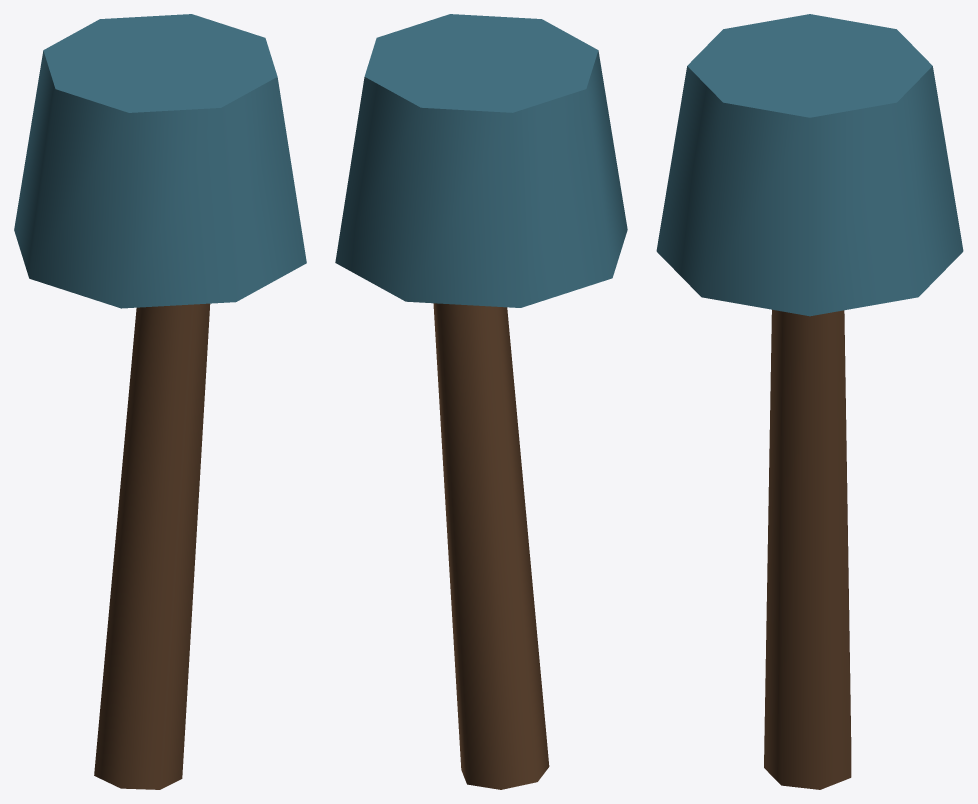
File: merchant_role.glb
The picture shows the model from 3 angles, left to right: view 1: azimuth 30°, elevation 25°; view 2: azimuth 150°, elevation 25°; view 3: azimuth 270°, elevation 25°; orthographic projection.
Visible parts, largest first — view 1: role_symbol, role_handle; view 2: role_symbol, role_handle; view 3: role_symbol, role_handle.
Boxes of the visible parts, x1=… form: role_symbol: x1=14, y1=14, x2=306, y2=308; role_handle: x1=94, y1=303, x2=210, y2=789; role_symbol: x1=335, y1=14, x2=627, y2=307; role_handle: x1=433, y1=303, x2=549, y2=789; role_symbol: x1=656, y1=14, x2=963, y2=316; role_handle: x1=764, y1=309, x2=851, y2=789.
Bounding box in the file's own units: 0.3 × 0.7725 × 0.3.
